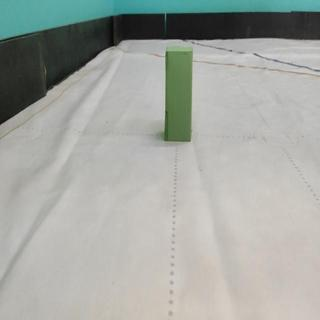greenbox: (163, 45, 196, 142)
